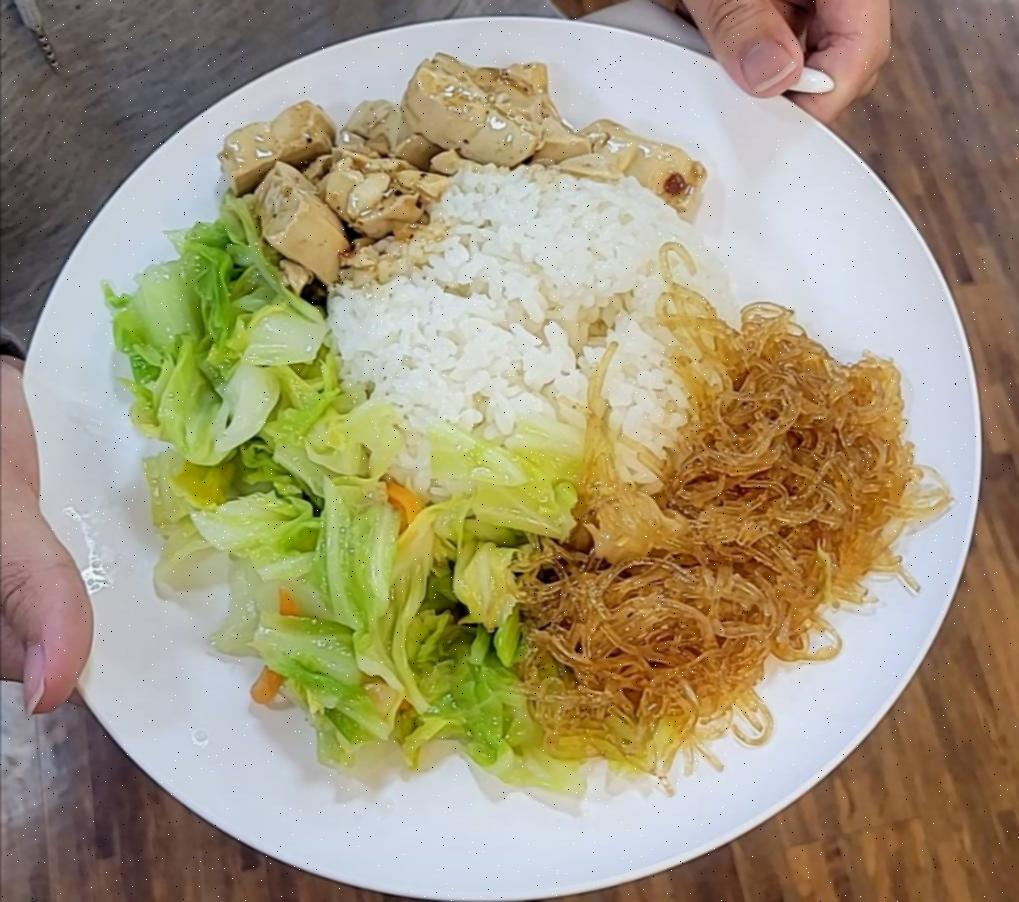plate: (6, 24, 984, 890)
side dish: (105, 198, 540, 792), (508, 326, 947, 778), (207, 47, 692, 268)
white rice: (308, 155, 735, 556)
